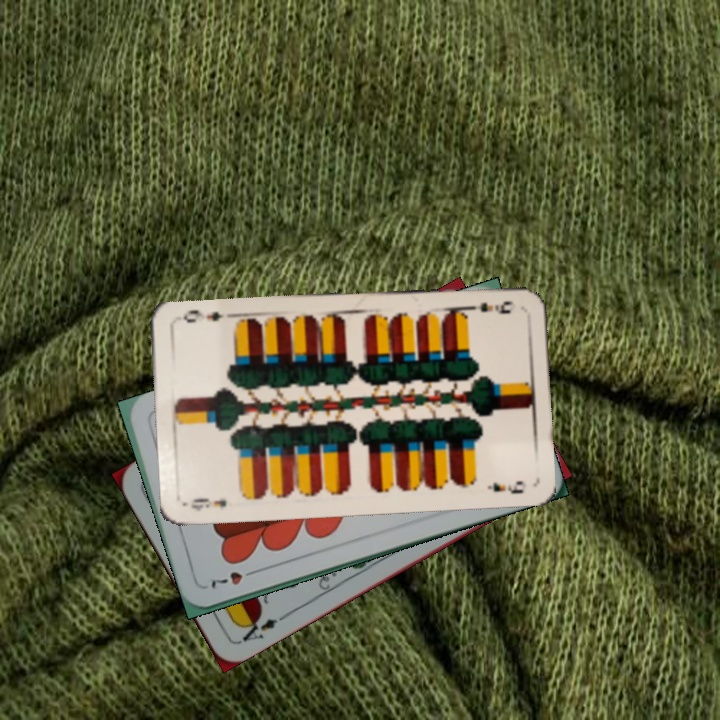E9: (462, 297, 515, 315), (187, 494, 229, 514)
EA: (235, 610, 289, 646)
H7: (206, 565, 261, 591)
